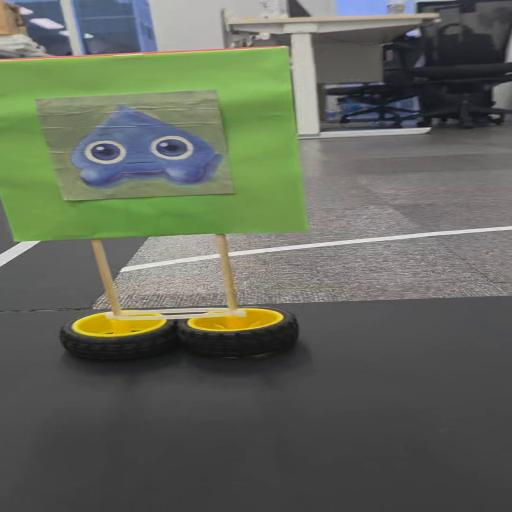Sign_B: (1, 56, 308, 358)
